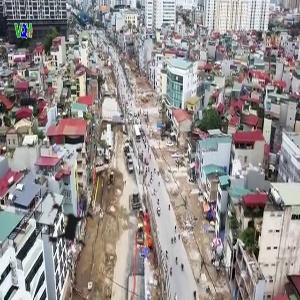drone: (13, 165, 135, 287)
